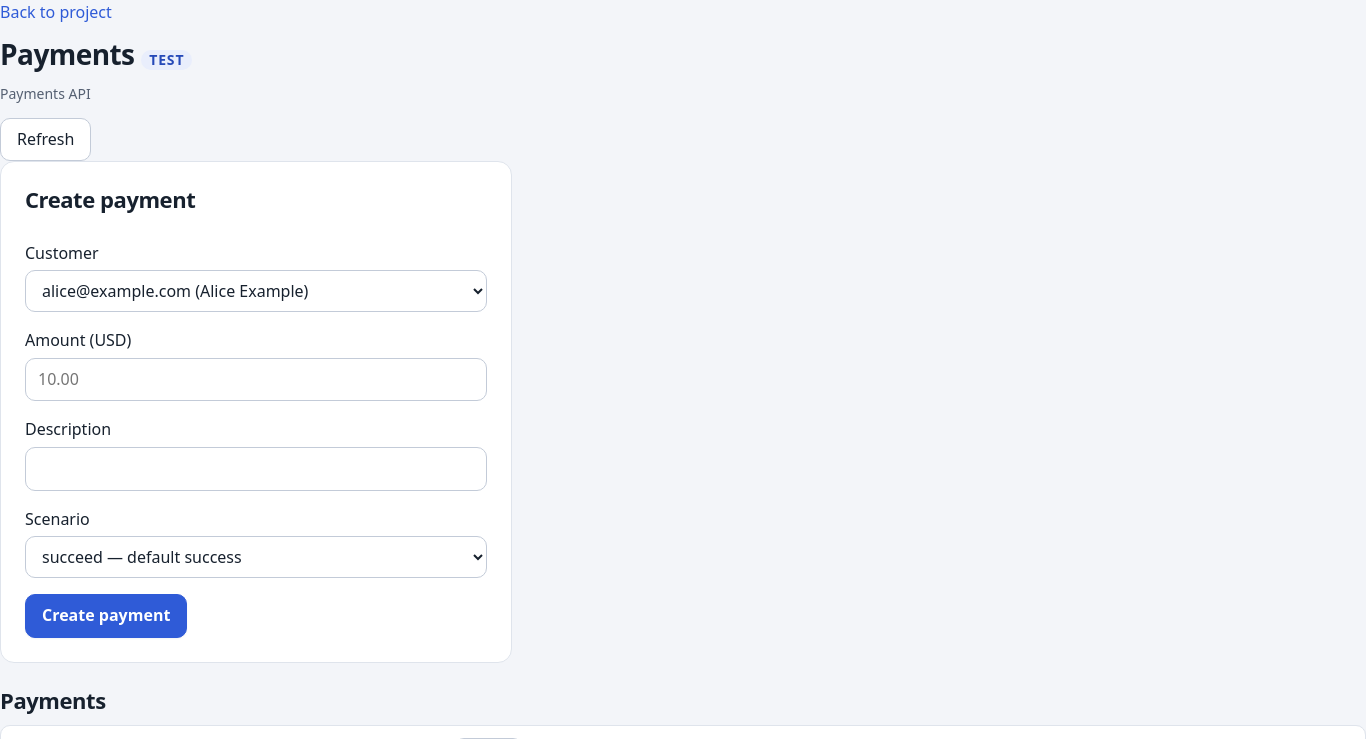
Test case: payments scenario hook (phase 16 §6.1, D9) › surfaces a scenario 400 as a form error and keeps the input (§11.4)
Step 1. Type "5.00" into the field labelled "Amount (USD)" → (256, 380), box [25,358,487,401]
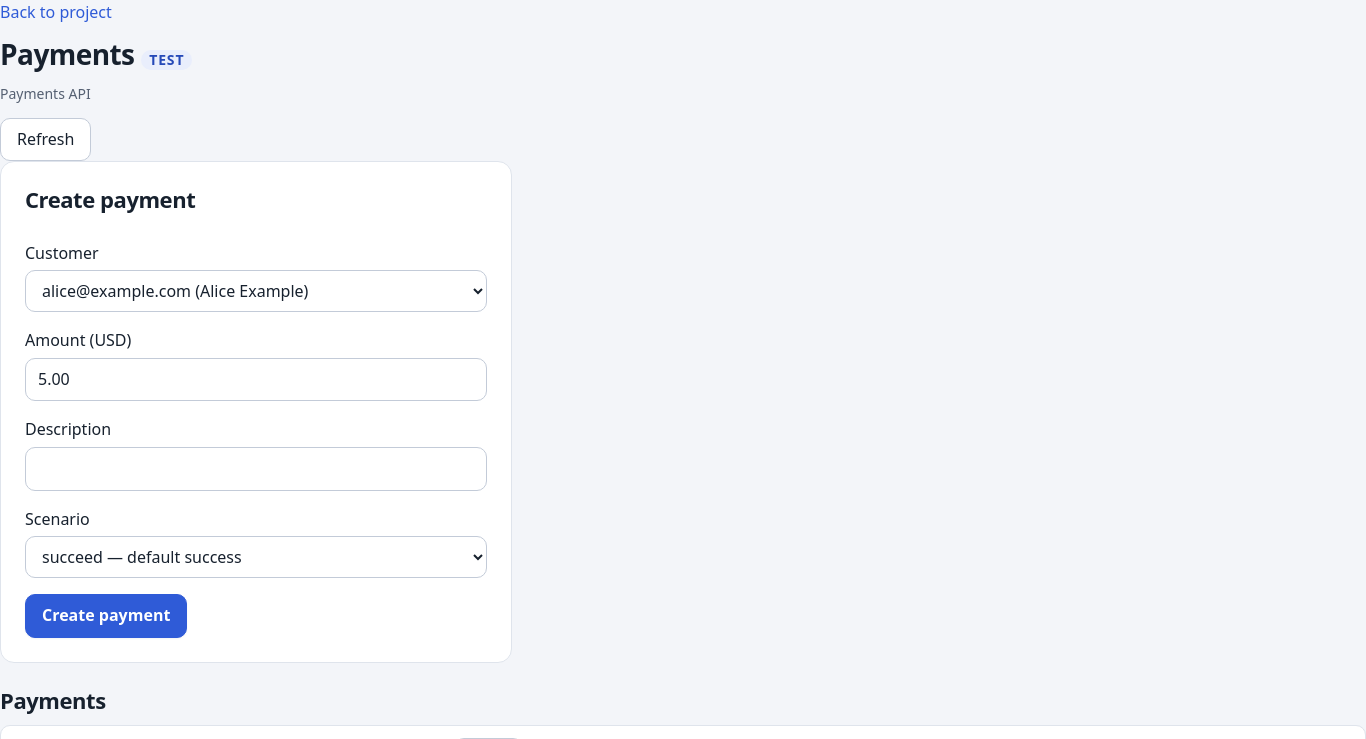
Step 2. Select "decline — fails at settlement" in the dropdown labelled "Scenario" → (256, 557), box [25,536,487,578]
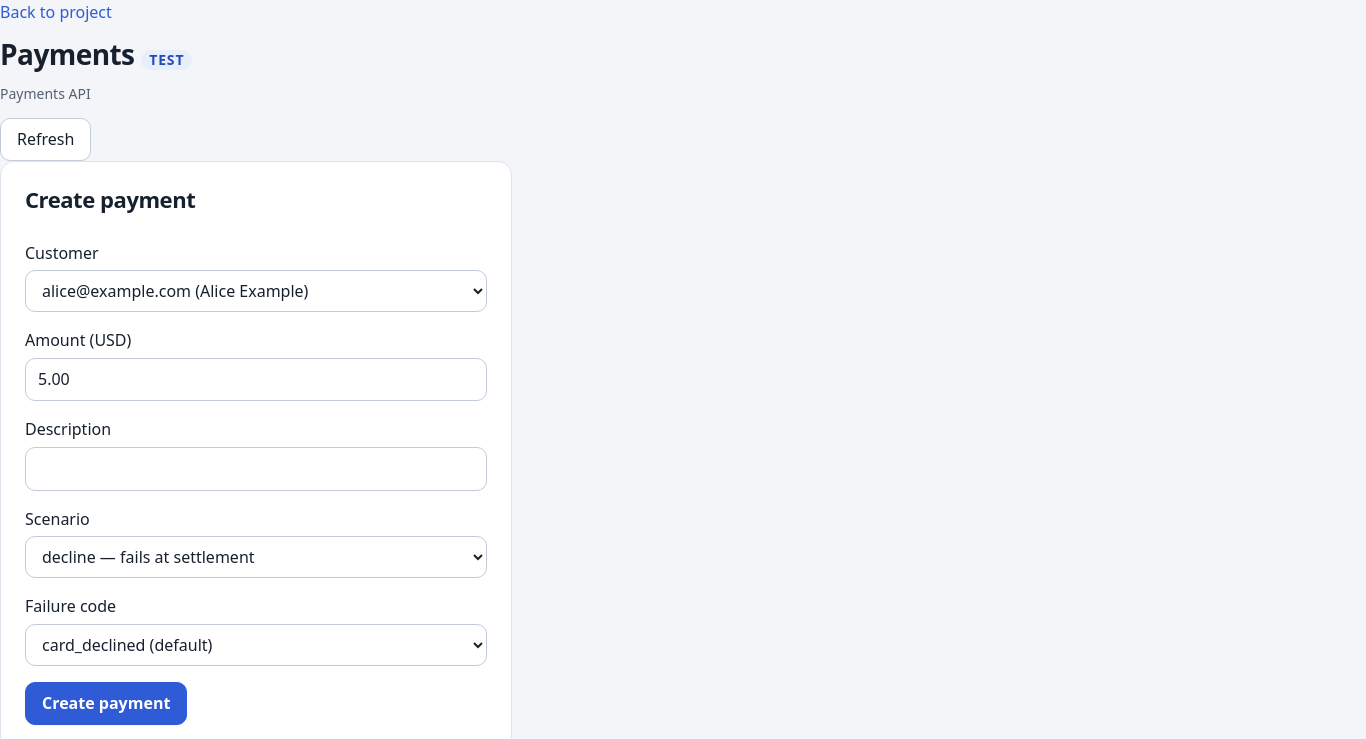
Step 3. Click the button "Create payment" → (106, 704), box [25,682,187,725]
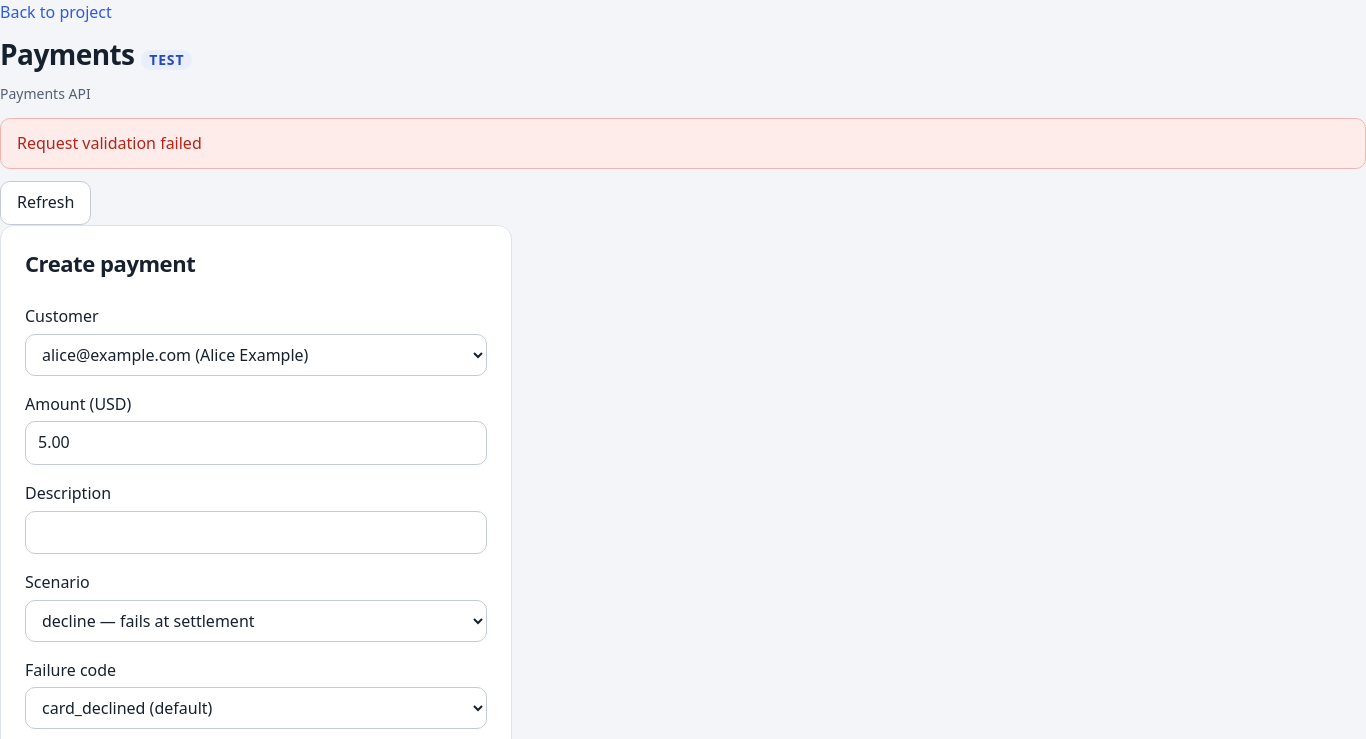
expect the message reads "Request validation failed": met, box [17,132,202,154]
